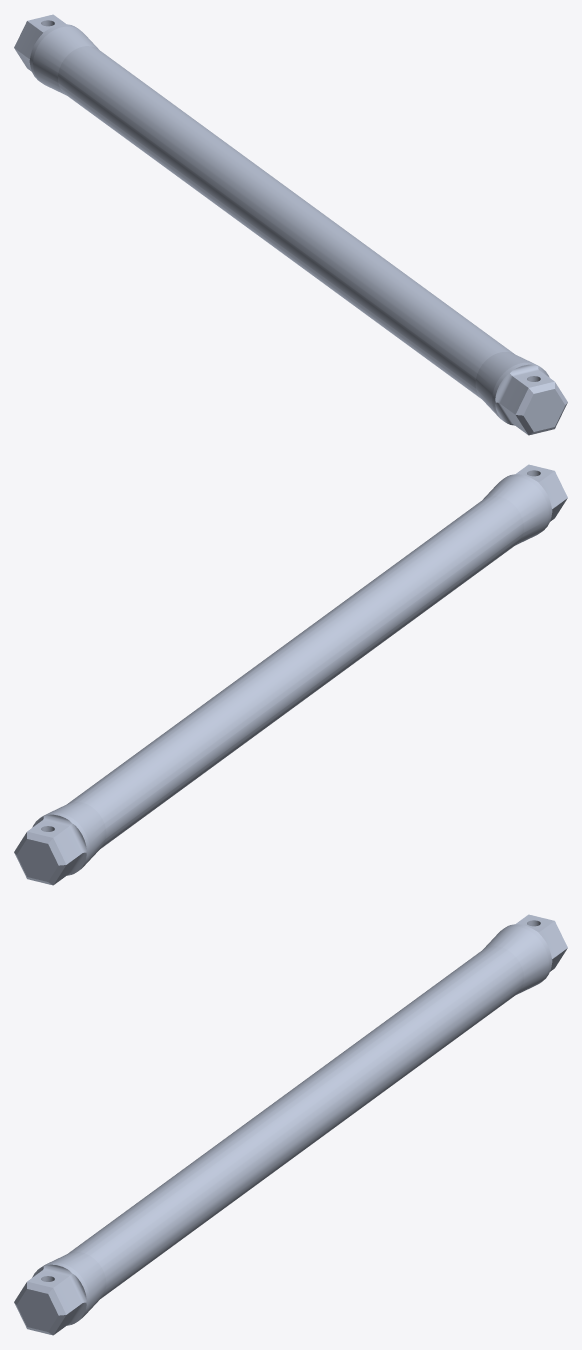
The model's file is UA_26_Front_ARB_Assembly__UA_26_ARB_Torsion_Bar_1.dae.
The picture shows the model from 3 angles, top to bottom: view 1: azimuth 30°, elevation 25°; view 2: azimuth 150°, elevation 25°; view 3: azimuth 330°, elevation 25°; orthographic projection.
Visible parts, largest first — view 1: node0; view 2: node0; view 3: node0.
Boxes of the visible parts, <box> form: node0: <box>14,14,567,435</box>; node0: <box>14,464,567,885</box>; node0: <box>14,914,567,1335</box>.
Bounding box in the file's own units: 0.02 × 0.02 × 0.3091.
